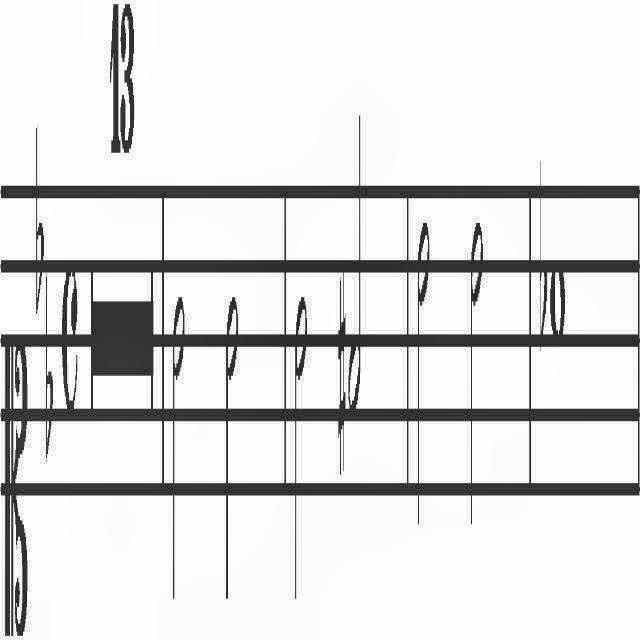Bemol: (35, 116, 45, 324), (538, 154, 548, 353), (46, 268, 54, 462)
Diez: (338, 266, 347, 482)
Full-note: (550, 258, 566, 346)
Half-note: (348, 103, 362, 431), (171, 286, 185, 610), (294, 292, 308, 606), (416, 212, 429, 532), (226, 290, 238, 614), (470, 214, 482, 534)
